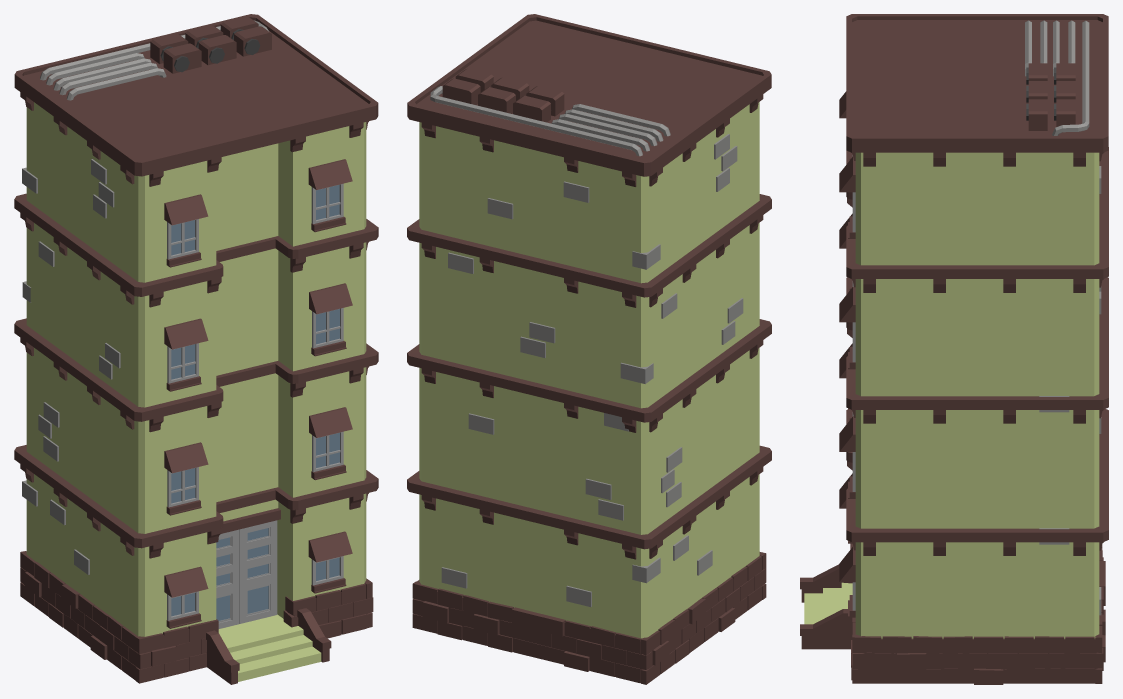
The model's file is 4.bina.fbx.
3 views of the same model, side by side, from view 1: azimuth 30°, elevation 25°; view 2: azimuth 150°, elevation 25°; view 3: azimuth 270°, elevation 25° (orthographic). The views are drawn at different scales.
Visible parts, largest first — view 1: 4Story_Center_Mat; view 2: 4Story_Center_Mat; view 3: 4Story_Center_Mat.
Part boxes in pixels (x1,y1,x2,y2): 4Story_Center_Mat: (14,14,378,684); 4Story_Center_Mat: (407,14,771,684); 4Story_Center_Mat: (800,14,1108,684).
Bounding box in the file's own units: 242 × 509 × 253.
